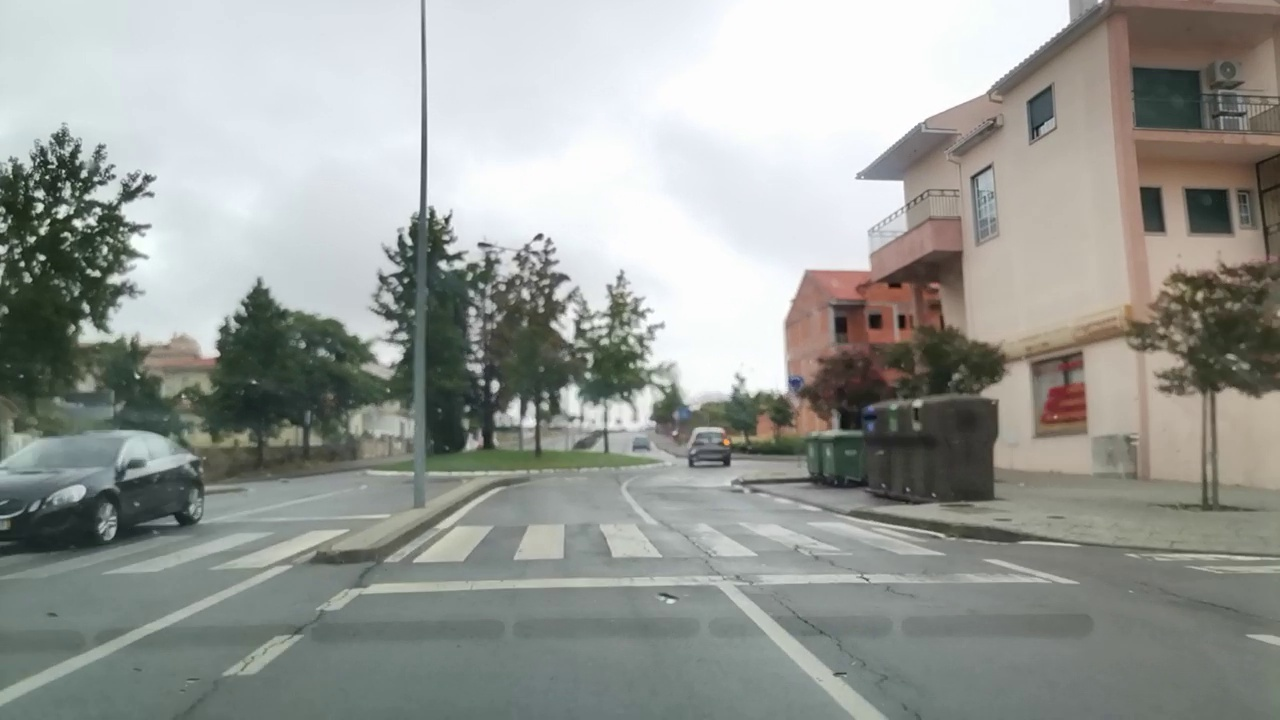Stairs: (414, 519, 942, 564), (8, 529, 347, 579)
